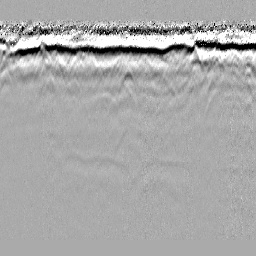cavity: (116, 64, 136, 96)
